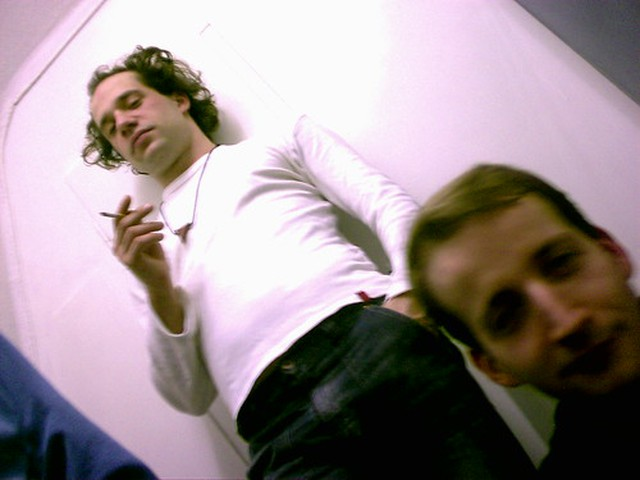Person: (70, 36, 419, 472), (429, 158, 640, 437)
